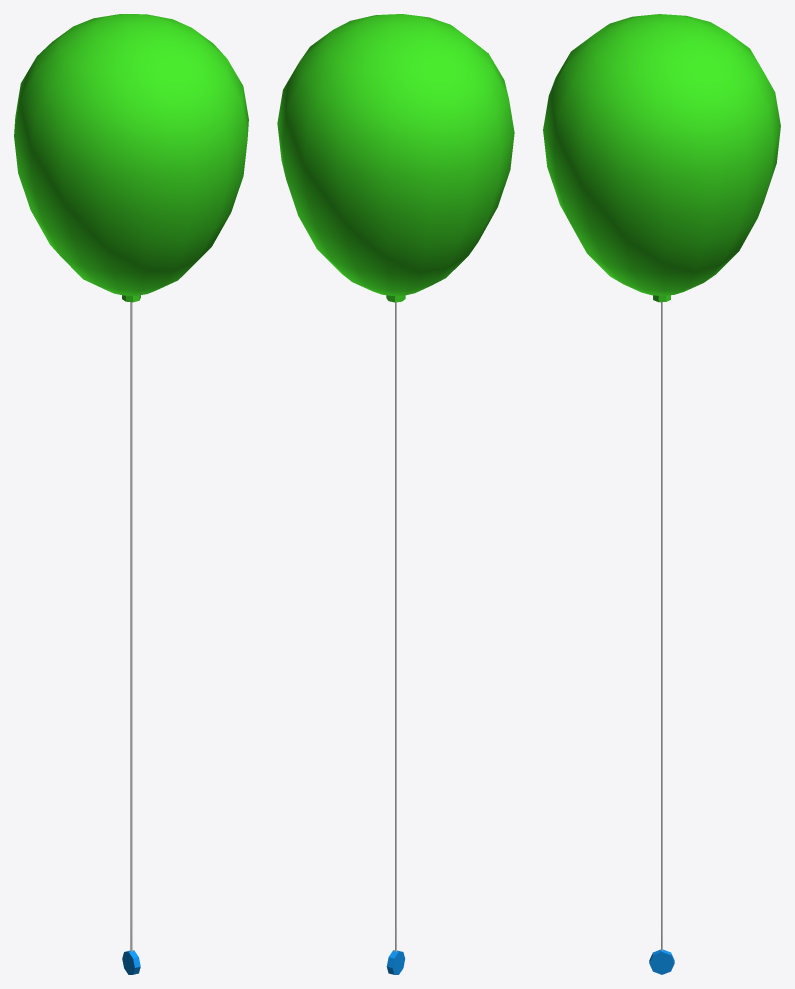
The model's file is BalloonG.fbx.
3 renders of one model, left to right at view 1: azimuth 30°, elevation 25°; view 2: azimuth 150°, elevation 25°; view 3: azimuth 270°, elevation 25°, orthographic.
Parts seen in each view (by area): view 1: BalloonG; view 2: BalloonG; view 3: BalloonG.
Part boxes in pixels (x1=…): BalloonG: x1=14, y1=14, x2=248, y2=974; BalloonG: x1=277, y1=14, x2=514, y2=974; BalloonG: x1=543, y1=14, x2=780, y2=974.
Size of the model in its own units: 275 by 1208 by 275.
